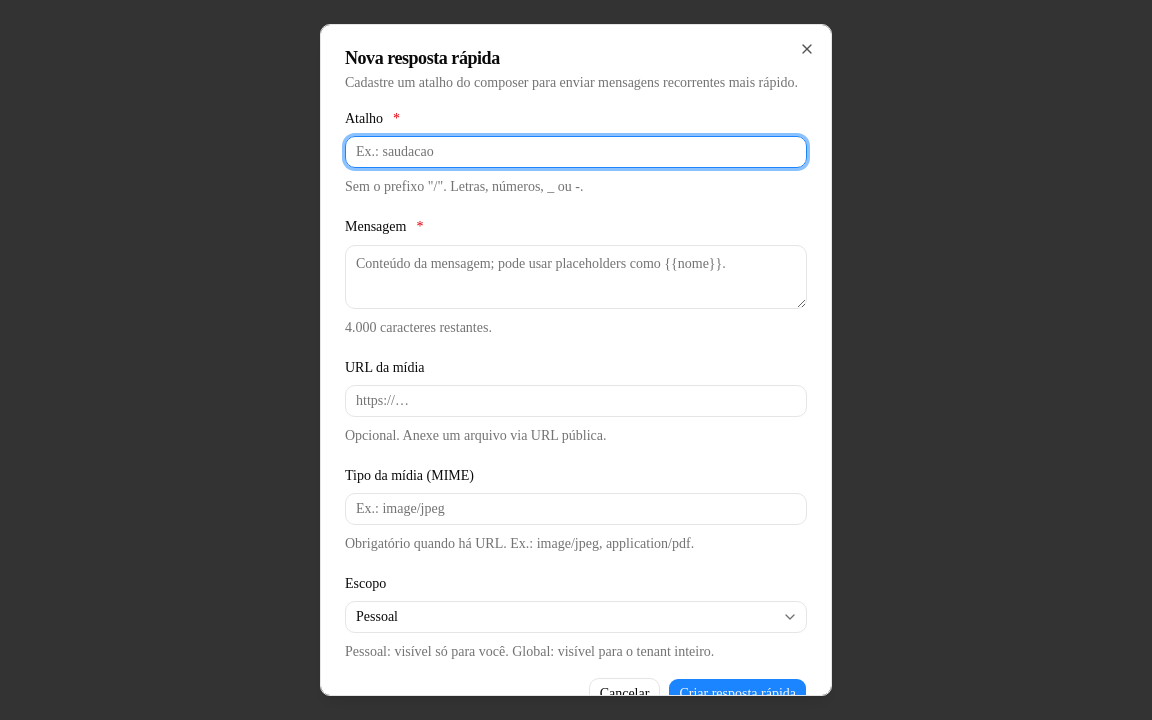
Test: QuickReplyDialog › valida atalho obrigatório
The width and height of the screenshot is (1152, 720).
Step 1. Click the button "Criar resposta rápida" → (738,694), box [668,678,807,710]
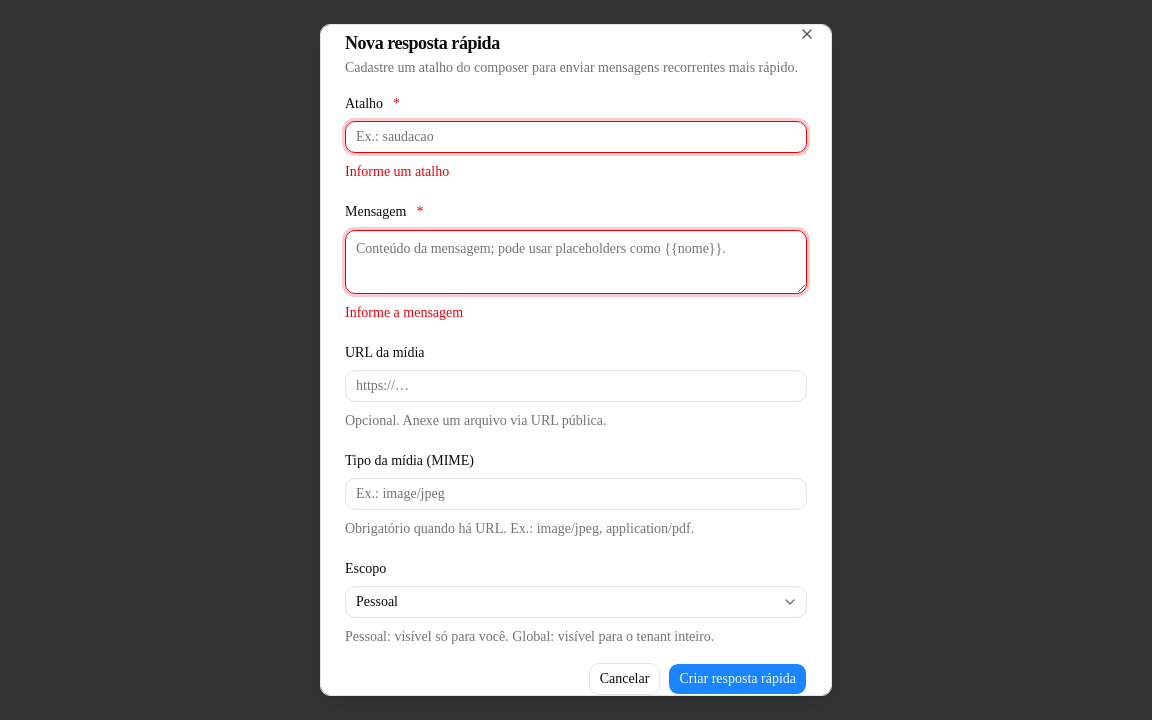
Check: the text "Informe um atalho" is shown, box [345,164,449,179]
